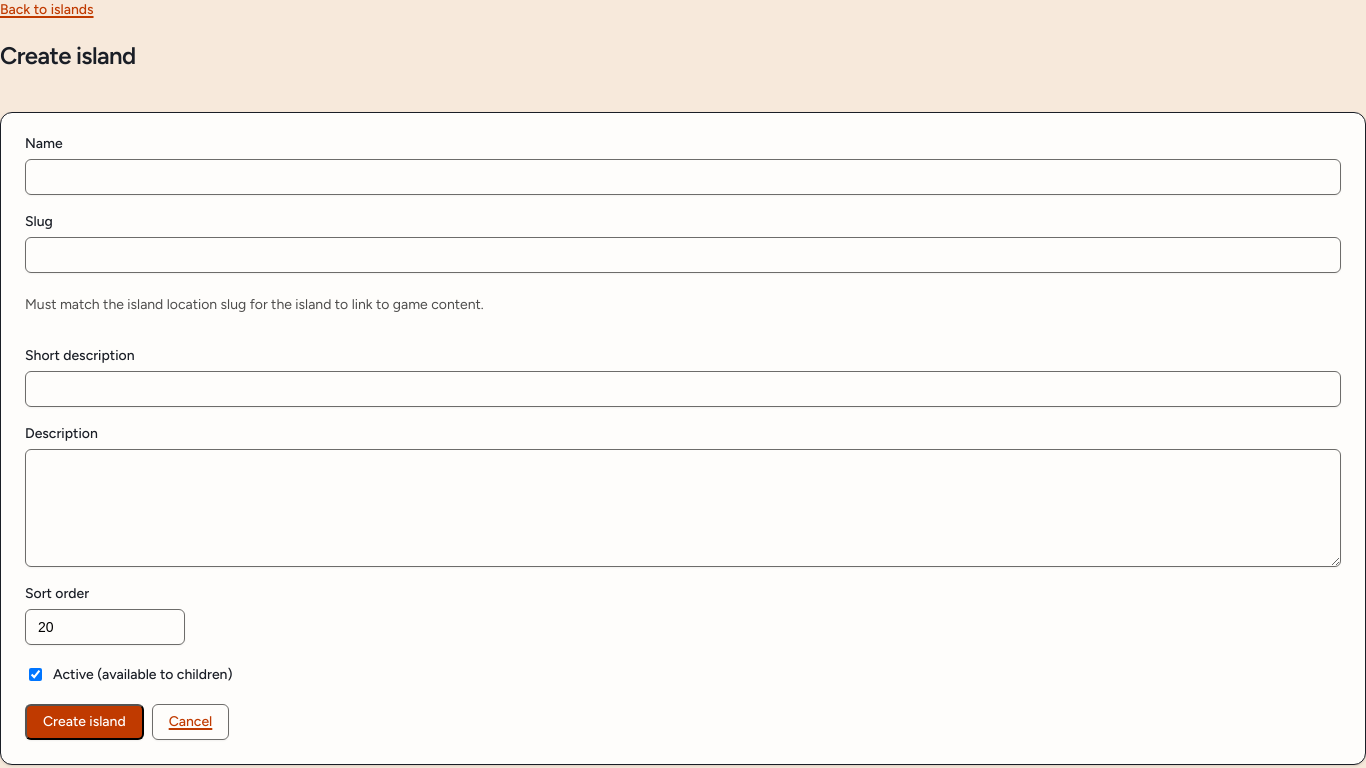
it: AdminIslandForm › validates, creates, and opens the new island
Click the button "Create island": (84, 722) [25,704,144,740]
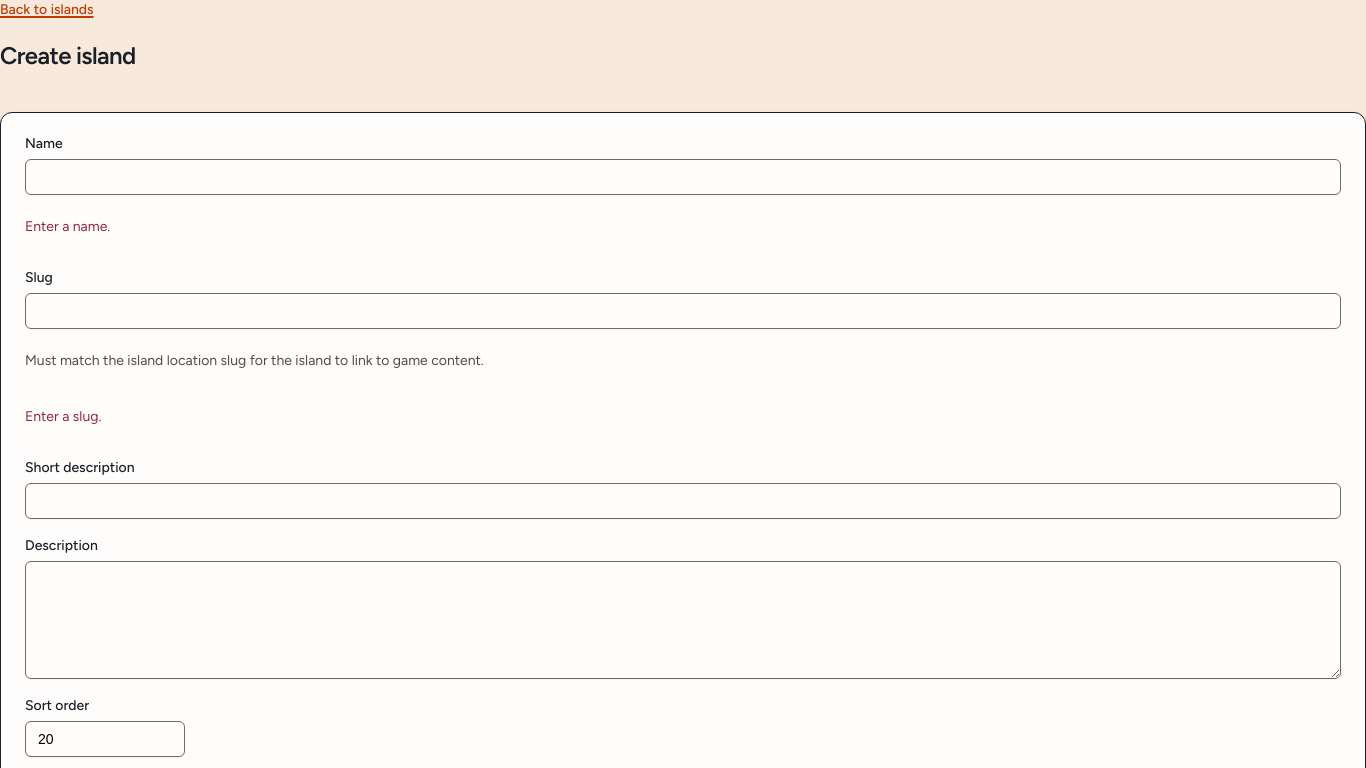
Expected: the text "Enter a name." is shown, [25,218,110,235]
In the field labelled "Name": (683, 177) [25,159,1341,195], type "Pirate Bay"
(page scrolled)
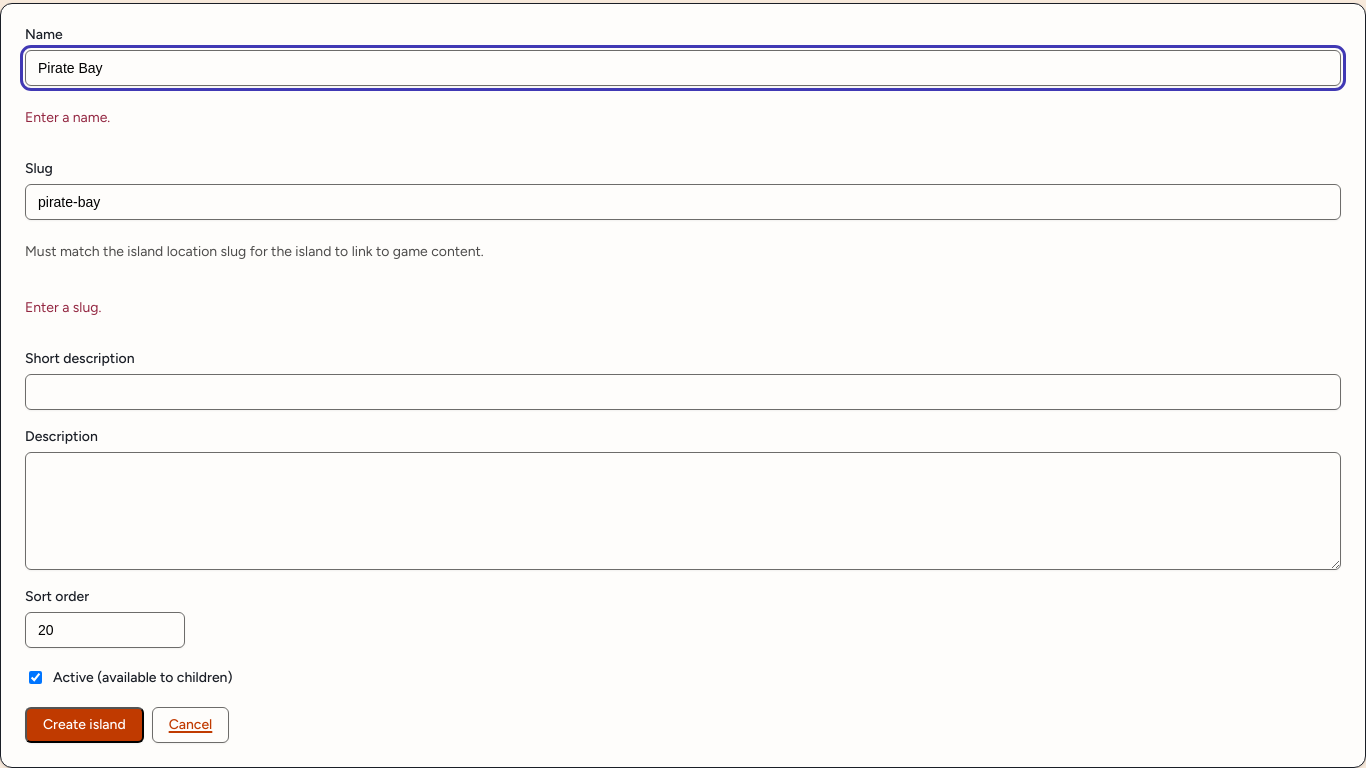
Expected: the field labelled "Slug" holds "pirate-bay", [25,184,1341,220]
Click the button "Create island": (84, 725) [25,707,144,743]
(page scrolled)
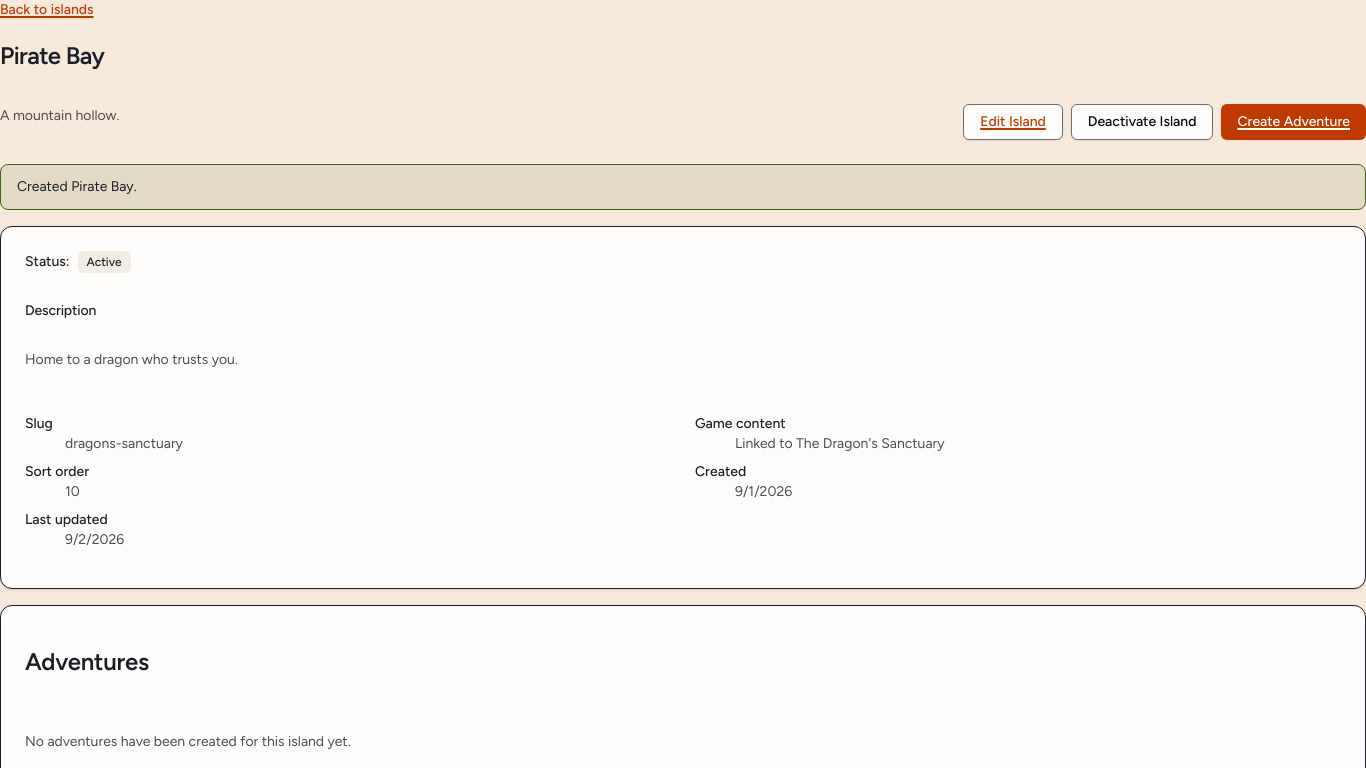
Expected: the message reads "Created Pirate Bay.", [17,178,137,195]
